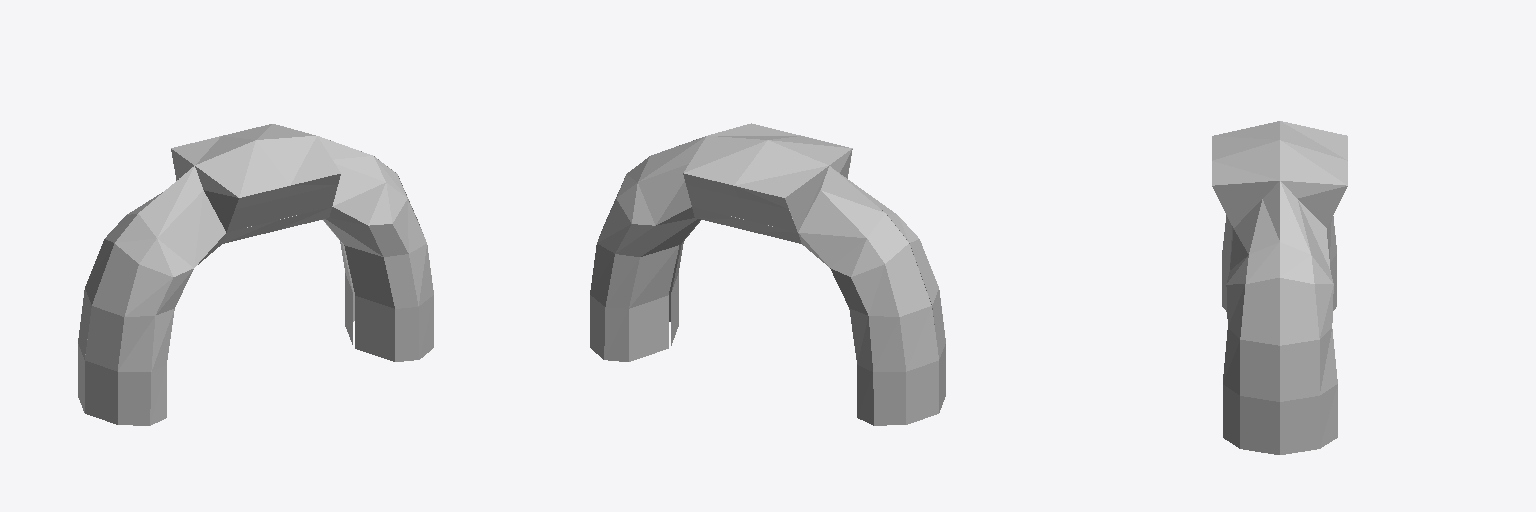
File: door_frame_50.obj
The picture shows the model from 3 angles: view 1: azimuth 30°, elevation 25°; view 2: azimuth 150°, elevation 25°; view 3: azimuth 270°, elevation 25°; orthographic projection.
Parts seen in each view (by area): view 1: DoorFrame50; view 2: DoorFrame50; view 3: DoorFrame50.
Boxes of the visible parts, box(x1,y1,x2,y2) form: DoorFrame50: box(78, 124, 433, 425); DoorFrame50: box(590, 123, 945, 425); DoorFrame50: box(1212, 121, 1347, 454).
Bounding box in the file's own units: 8.47 × 5.48 × 2.93.